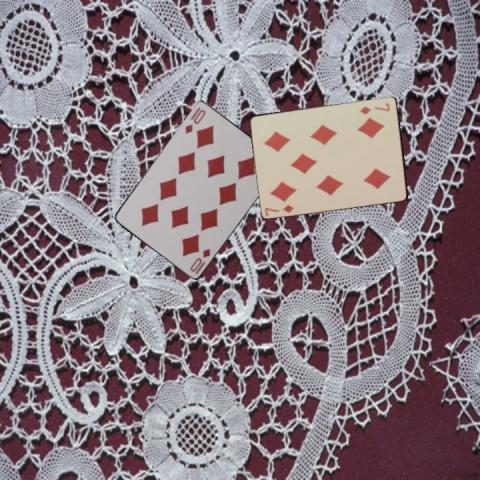10d: (187, 246, 212, 276), (182, 106, 207, 135)
7d: (357, 100, 391, 116), (262, 201, 295, 217)
